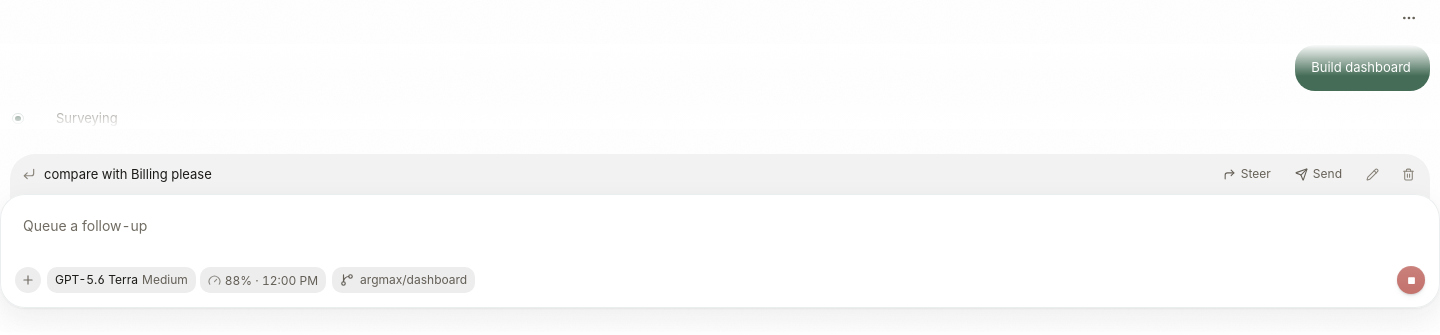
it: SessionComposer queued follow-up editing › keeps chat references in an edited row, since they are part of its text
Click the button named "Edit queued follow-up: compare with Billing please" at (1372, 174), box [1358,160,1386,188]
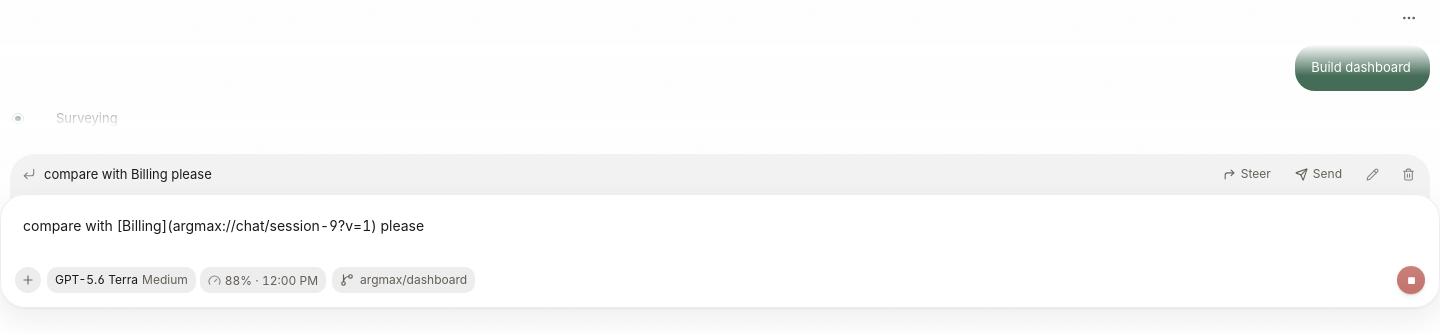
Result: the text box named "Chat prompt" holds "compare with [Billing](argmax://chat/session-9?v=1) please" at [15,207,1425,259]
